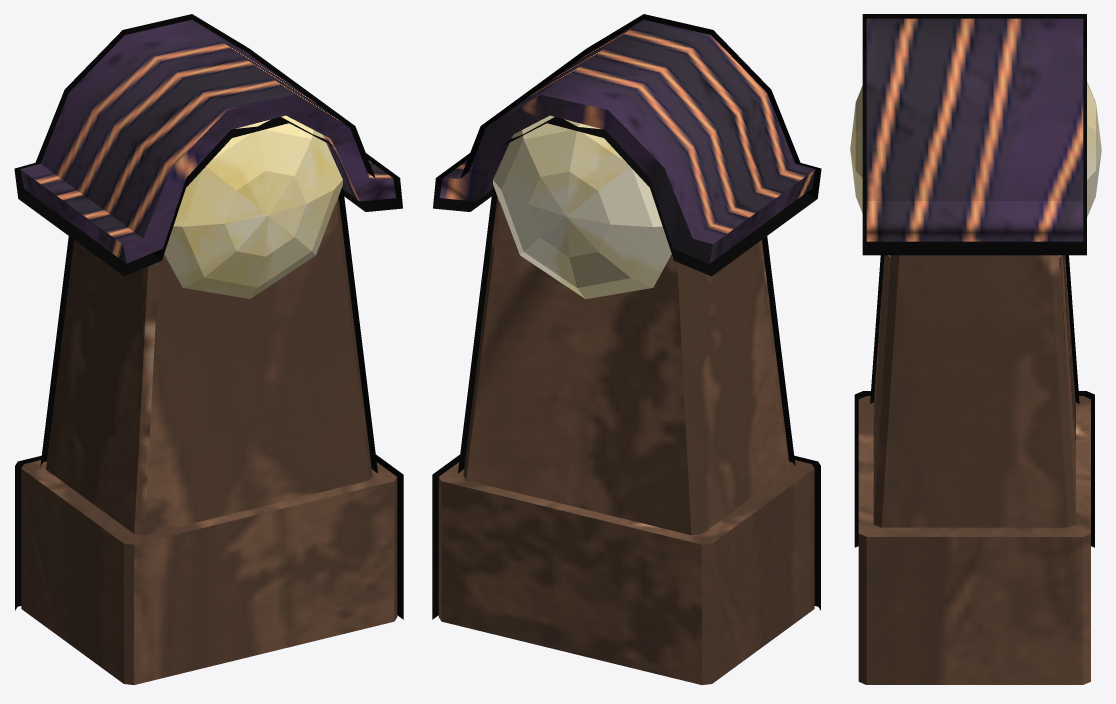
File: s0_Fence_01_Post__1__01.glb
The picture shows the model from 3 angles, left to right: view 1: azimuth 30°, elevation 25°; view 2: azimuth 150°, elevation 25°; view 3: azimuth 270°, elevation 25°; orthographic projection. The views are drawn at different scales.
Visible parts, largest first — view 1: node_Fence_01_Post (1); view 2: node_Fence_01_Post (1); view 3: node_Fence_01_Post (1).
Part boxes in pixels (x1=…): node_Fence_01_Post (1): x1=14, y1=14, x2=403, y2=684; node_Fence_01_Post (1): x1=432, y1=14, x2=821, y2=684; node_Fence_01_Post (1): x1=850, y1=14, x2=1101, y2=684.
Size of what is drawn, in the model's own units: 0.7262 by 1.36 by 0.5293.
4 materials, 3 textured.
